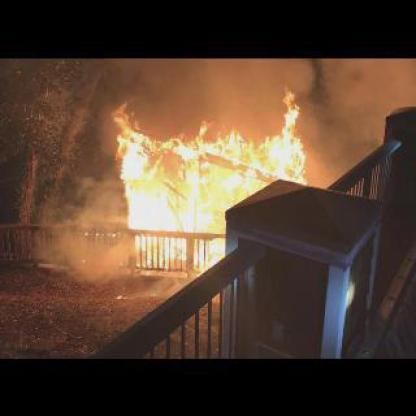fire: (102, 101, 310, 278)
